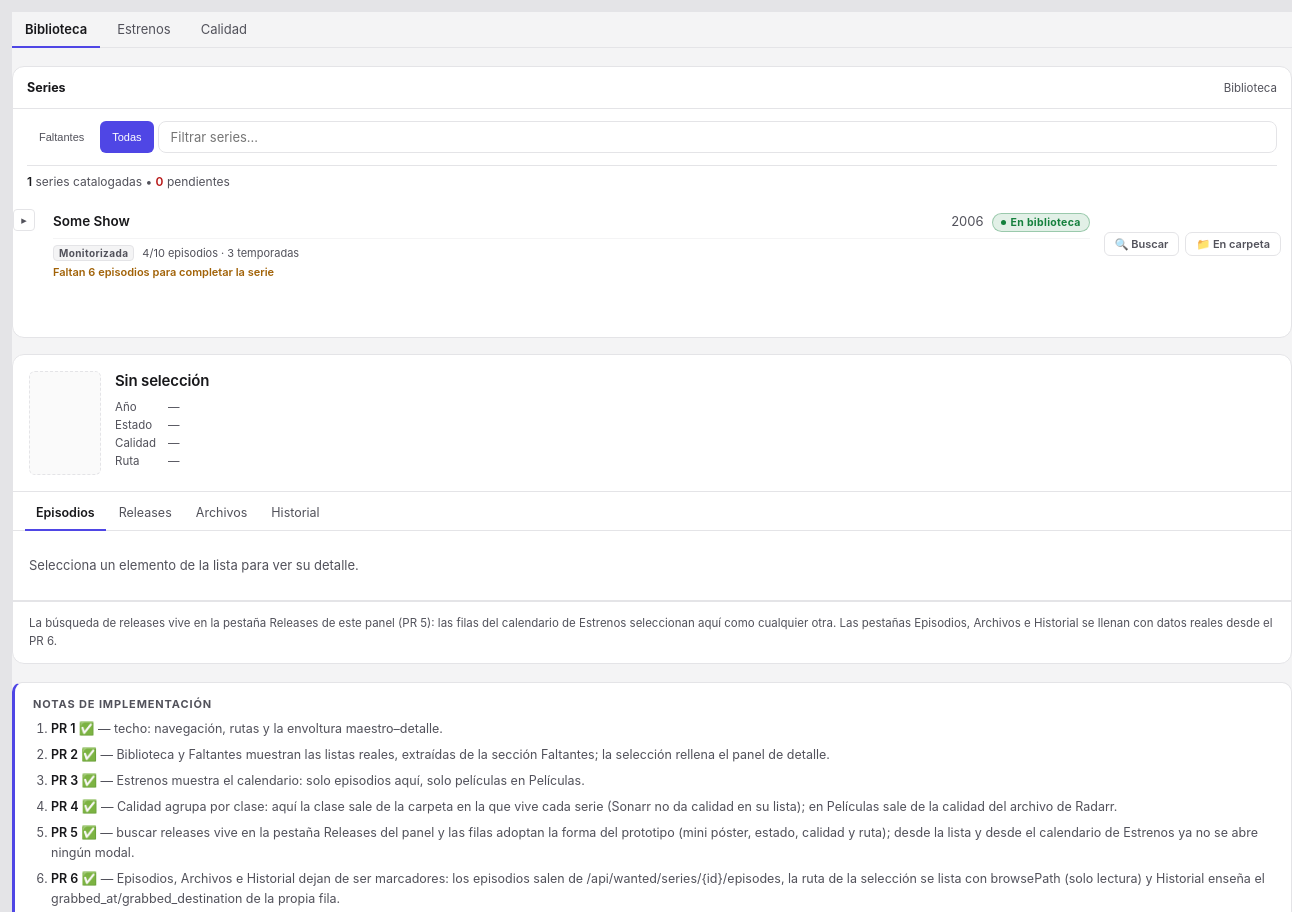
Test: Series · árbol serie→temporada→episodio (bloque 🟡) › expanding fetches the series and renders seasons with honest pills
Expected: the text "Some Show" is shown, [53,212,130,228]
Click the button named "episodios de Some Show" at (24, 220), box [13,209,35,231]
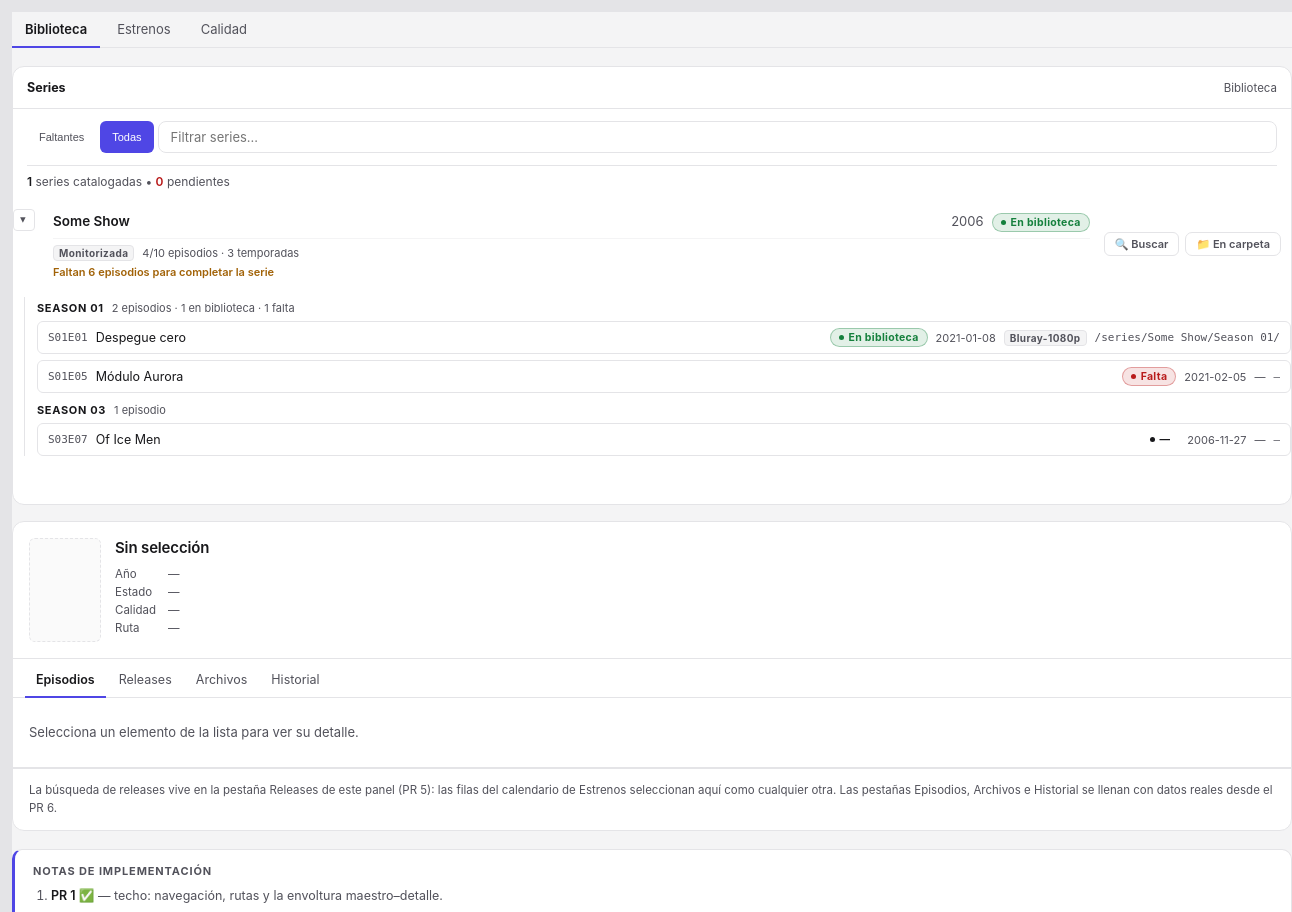
Now the text "Despegue cero" is shown, box [96,330,186,345]
Now the button named "episodios de Some Show" is expanded, box [13,209,35,231]
Now the text "Season 01" is shown, box [37,301,104,315]
